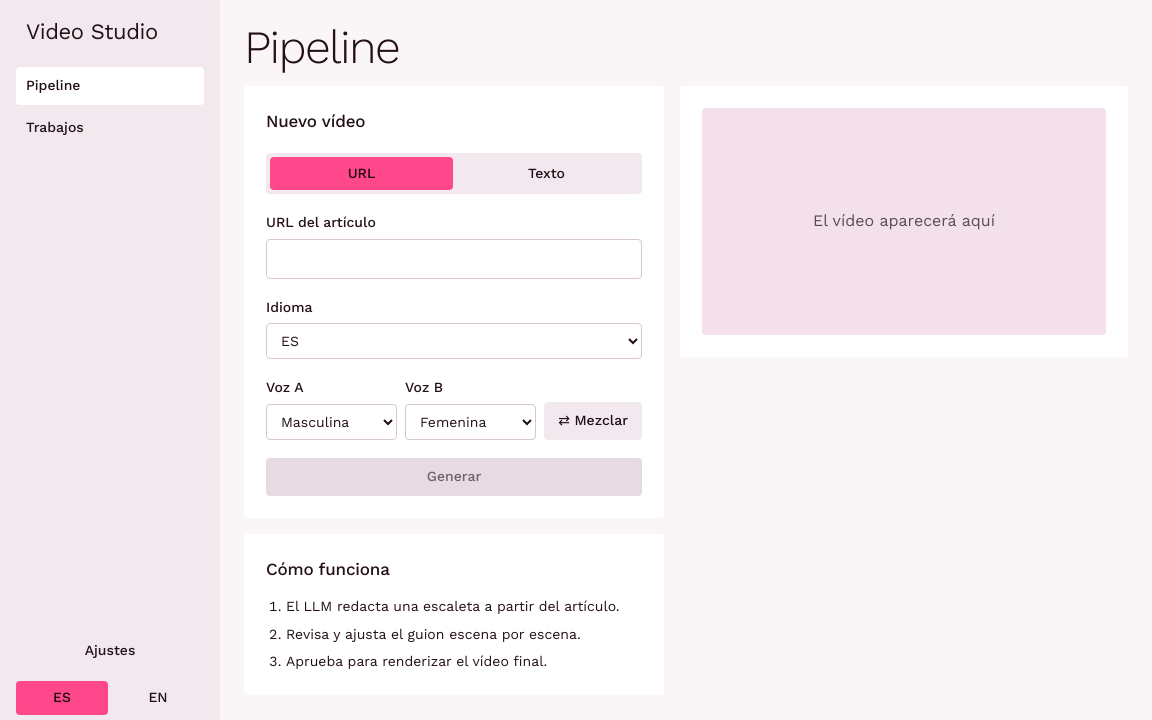
Scenario: App shell › pipeline state across tabs › keeps the draft under review when switching to Trabajos and back
Type "https://x.test/a" into the field labelled "URL del artículo" at (454, 259), box [266, 239, 642, 279]
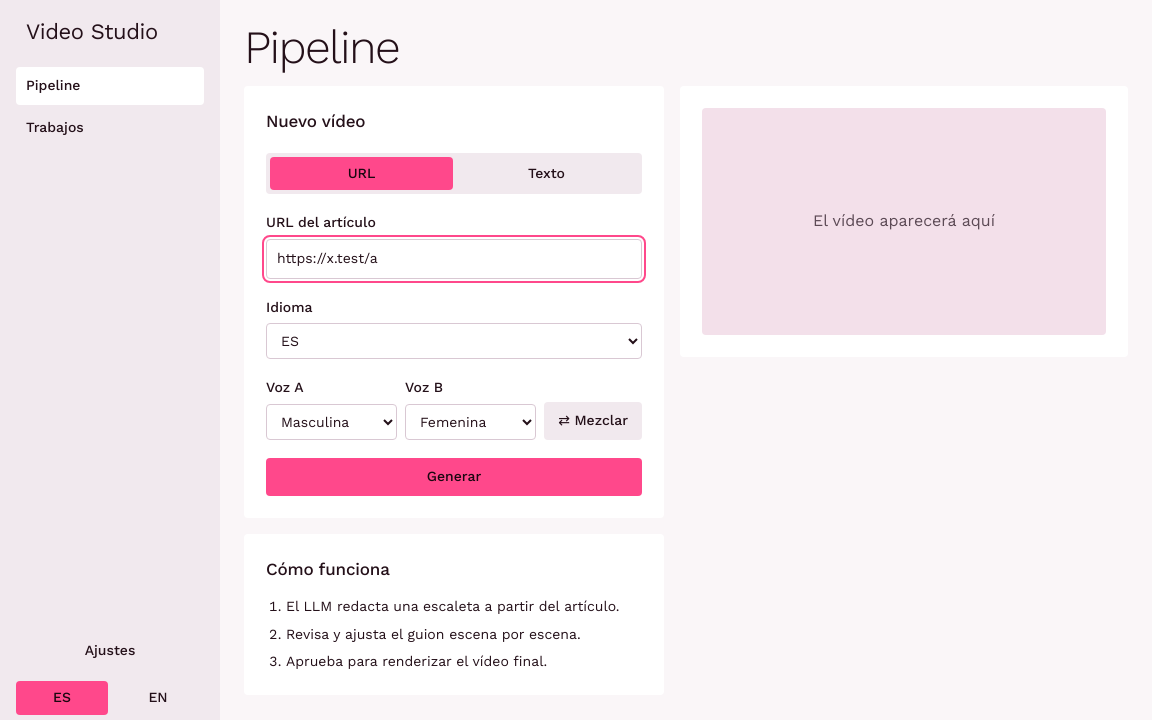
Click the button "Generar" at (454, 477), box [266, 458, 642, 496]
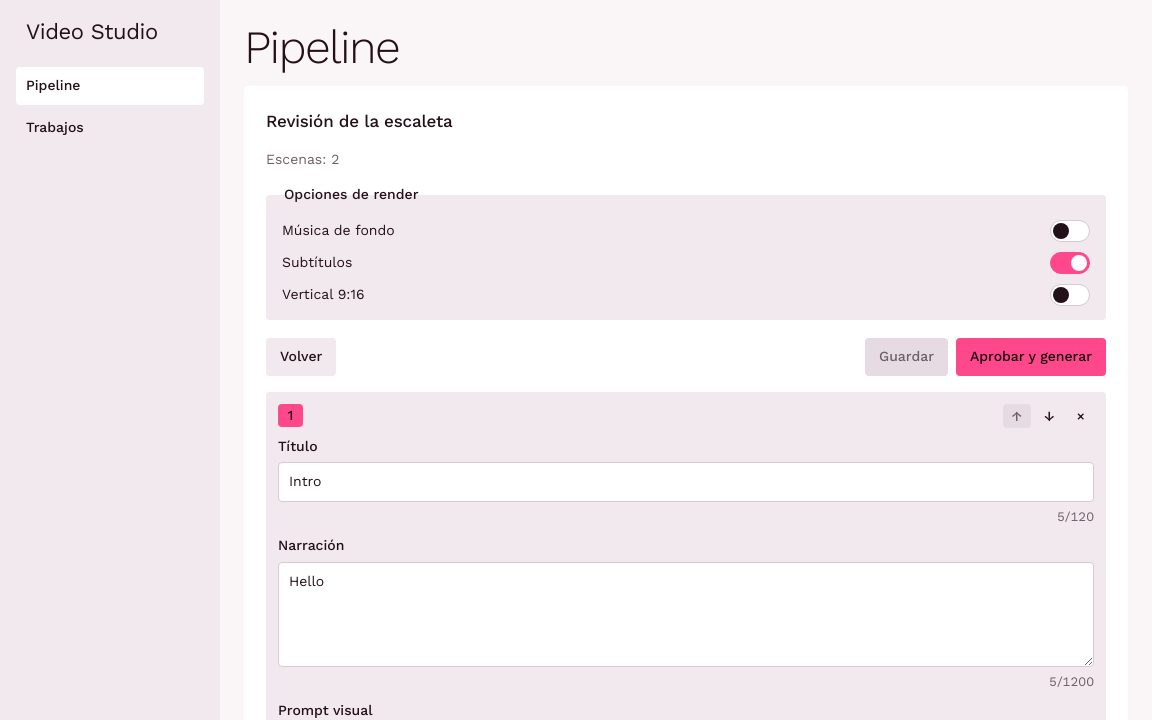
Expected: the button "Aprobar y generar" is shown, [956, 338, 1106, 376]
Click the link "Trabajos" at (55, 127), box [26, 119, 84, 135]
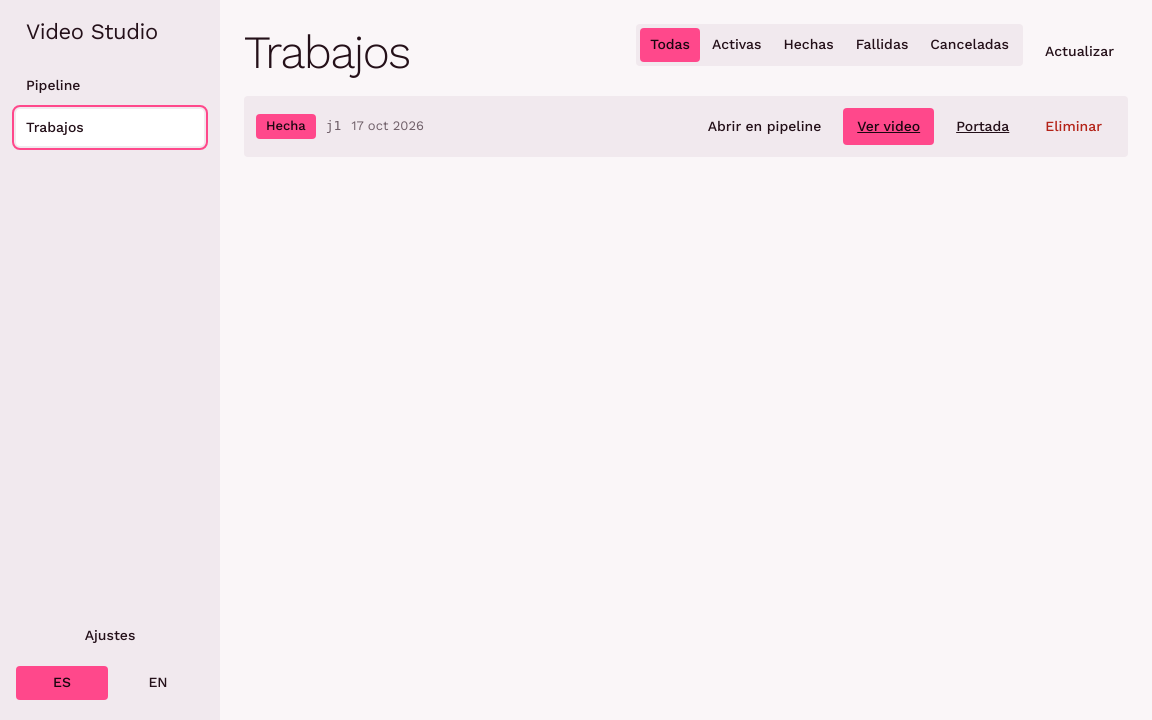
Expected: the button "Aprobar y generar" is gone
Click the link "Pipeline" at (53, 85), box [26, 77, 80, 93]
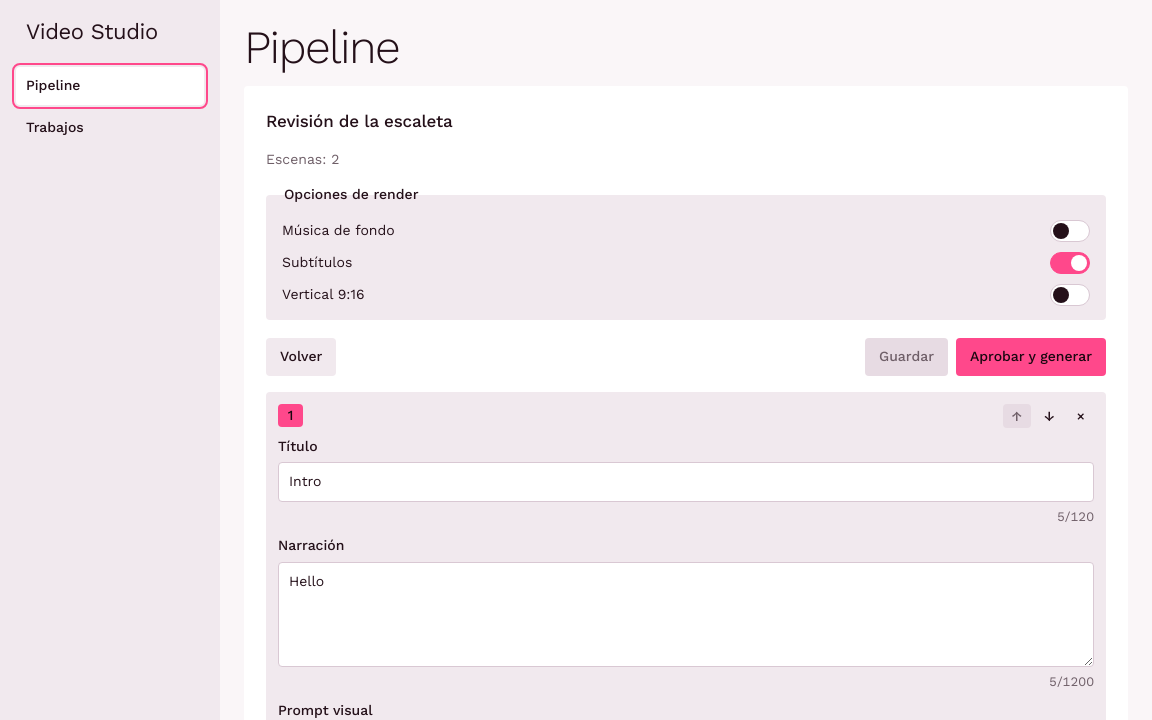
Expected: the button "Aprobar y generar" is shown, [956, 338, 1106, 376]
